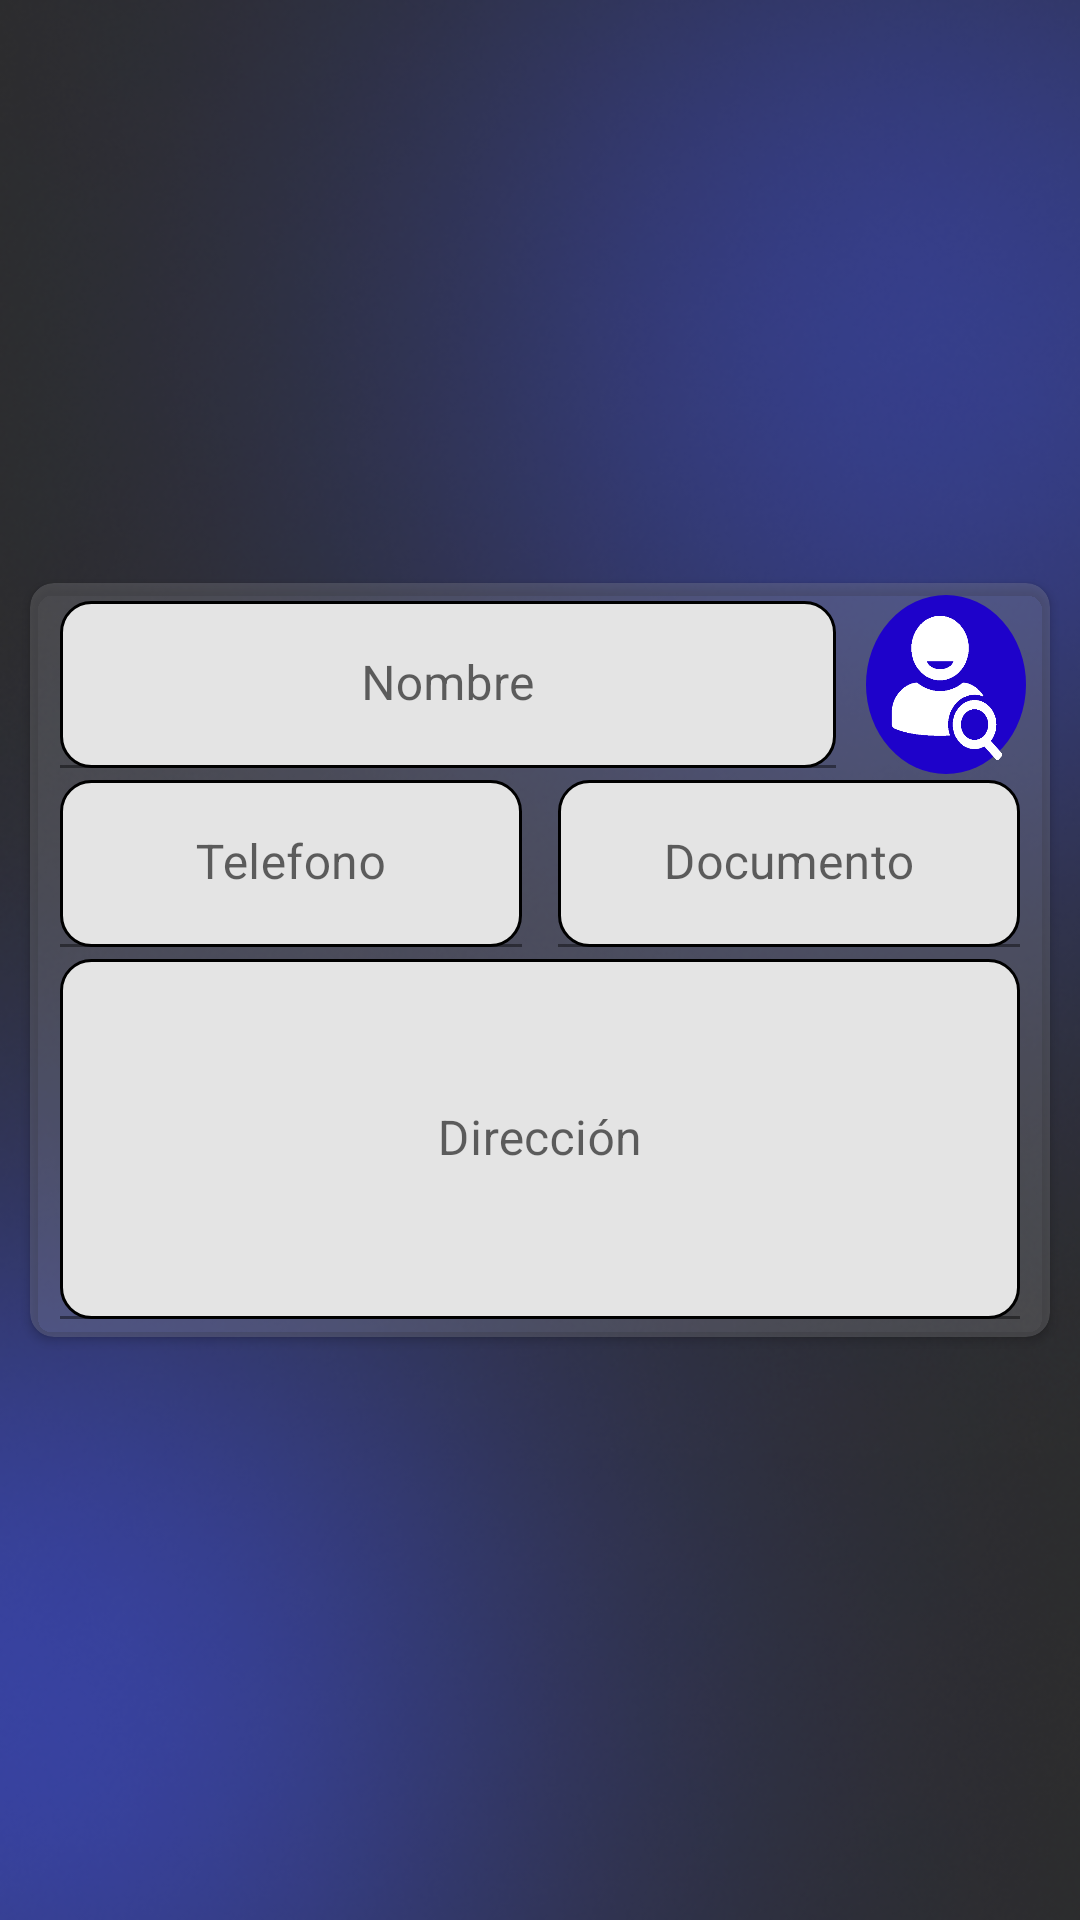

Named icons in this screenshot (1080 × 1920) and their centers, [x,y]:
Buscar Usuario: [946,684]
